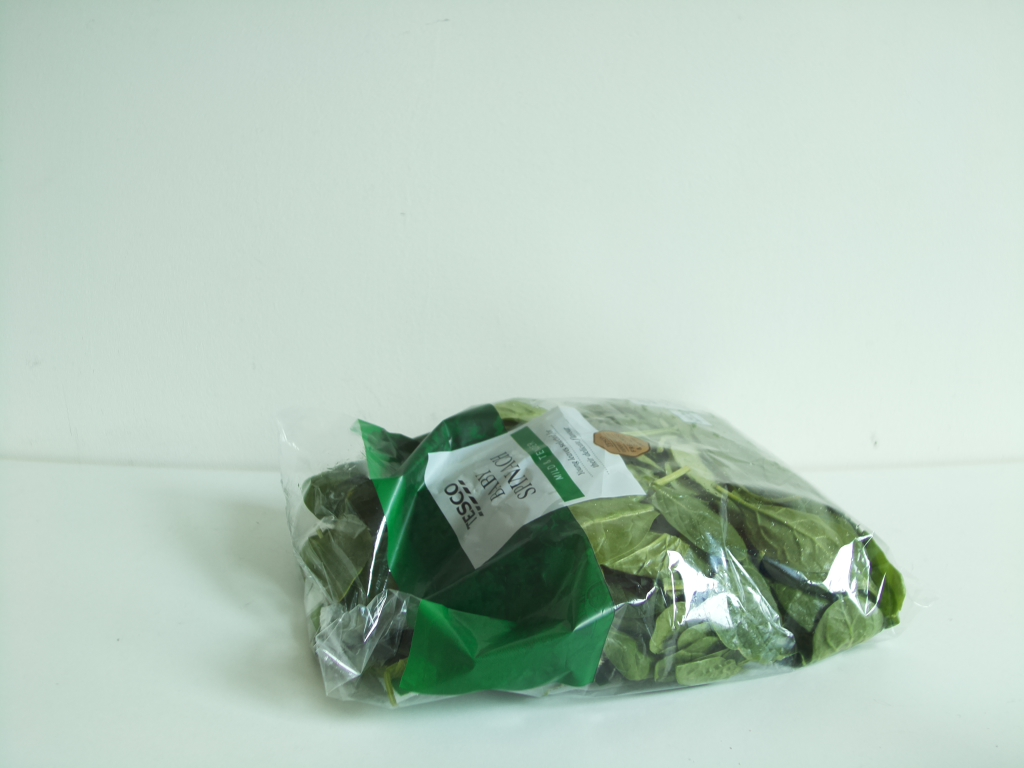salad: (298, 396, 905, 705)
